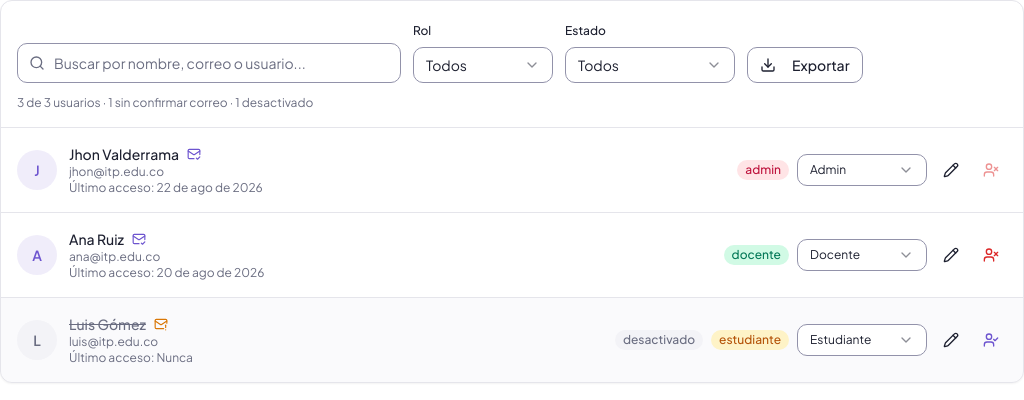
Gestión de usuarios › filtra por estado para encontrar a los que faltan por confirmar
This screenshot has width=1024, height=400.
expect the text "Ana Ruiz" is shown: met, box x1=69 y1=230 x2=146 y2=248
Click the dropdown named "Estado" at (650, 65), box x1=565 y1=47 x2=735 y2=83
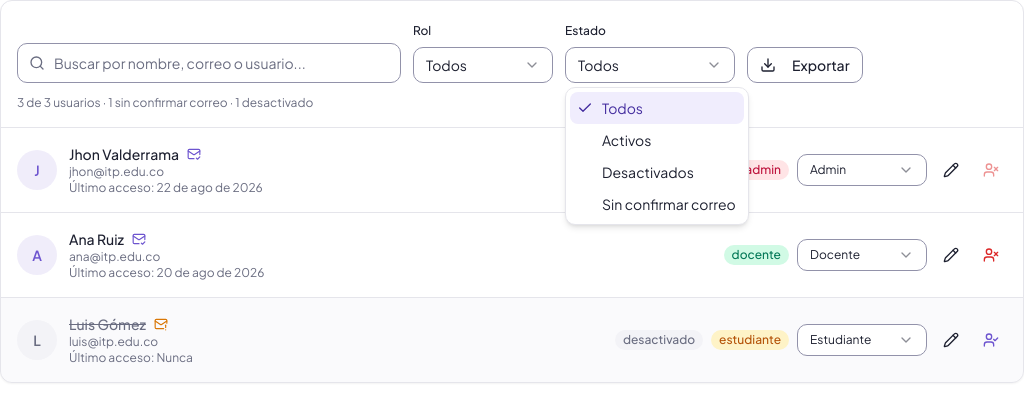
Click the option "Sin confirmar correo" at (669, 204), box x1=602 y1=195 x2=736 y2=213
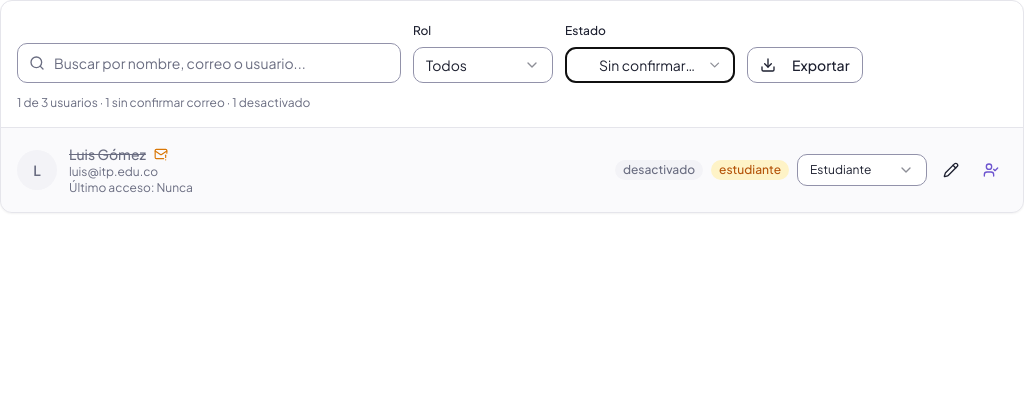
expect the text "Luis Gómez" is shown: met, box x1=69 y1=145 x2=168 y2=163
expect the text "Ana Ruiz" is gone: met
expect the text "1 de 3 usuarios · 1 sin confirmar correo · 1 desactivado" is shown: met, box x1=17 y1=95 x2=310 y2=110
